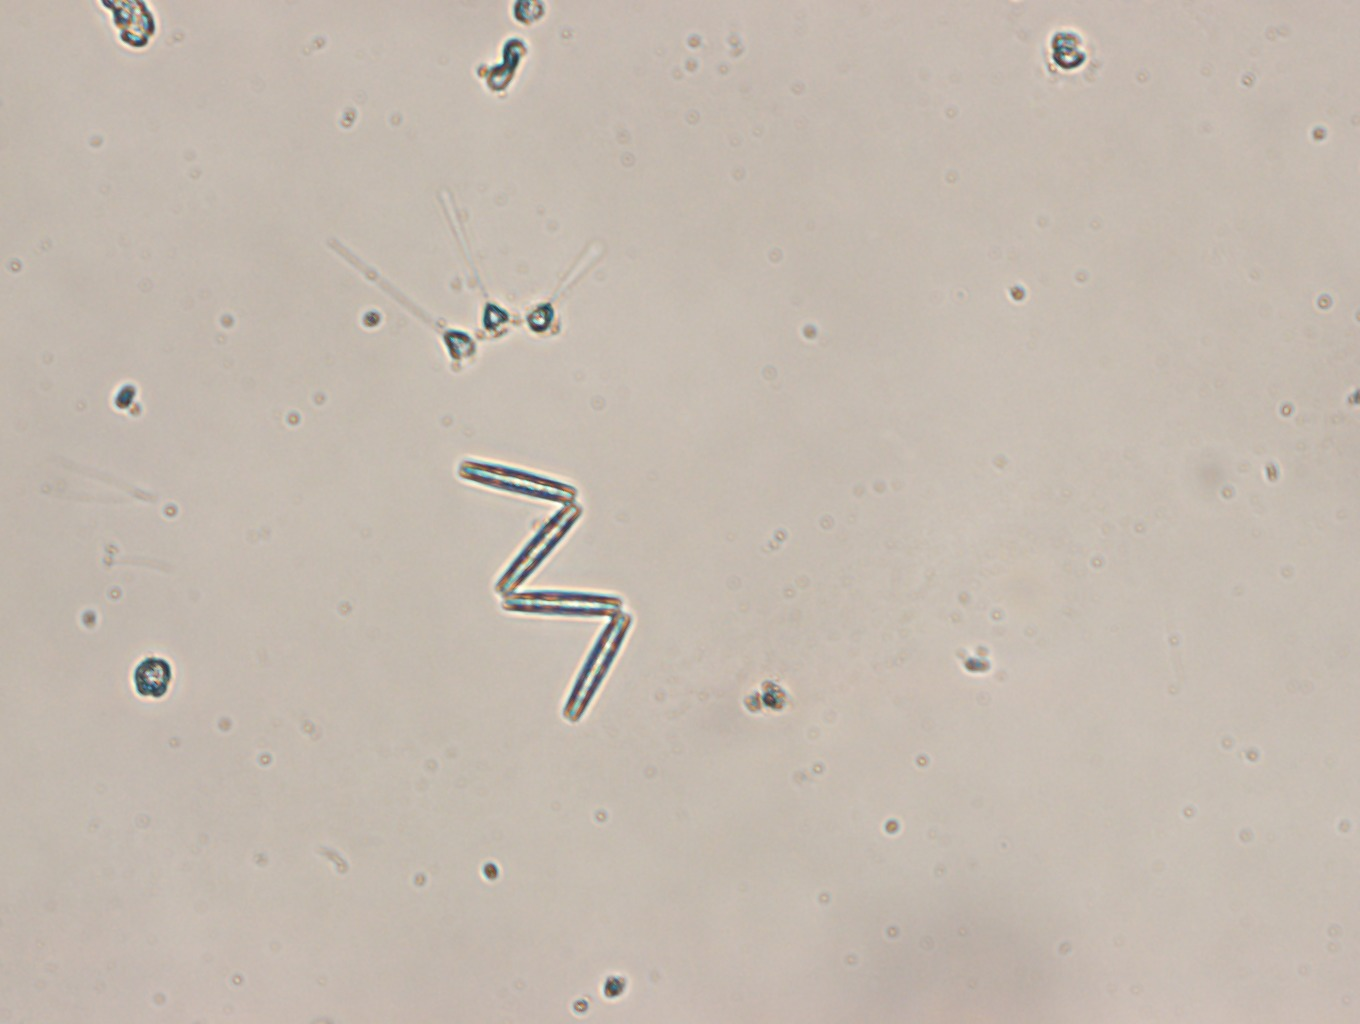thalassionema nitzschioides: (453, 456, 632, 722)
